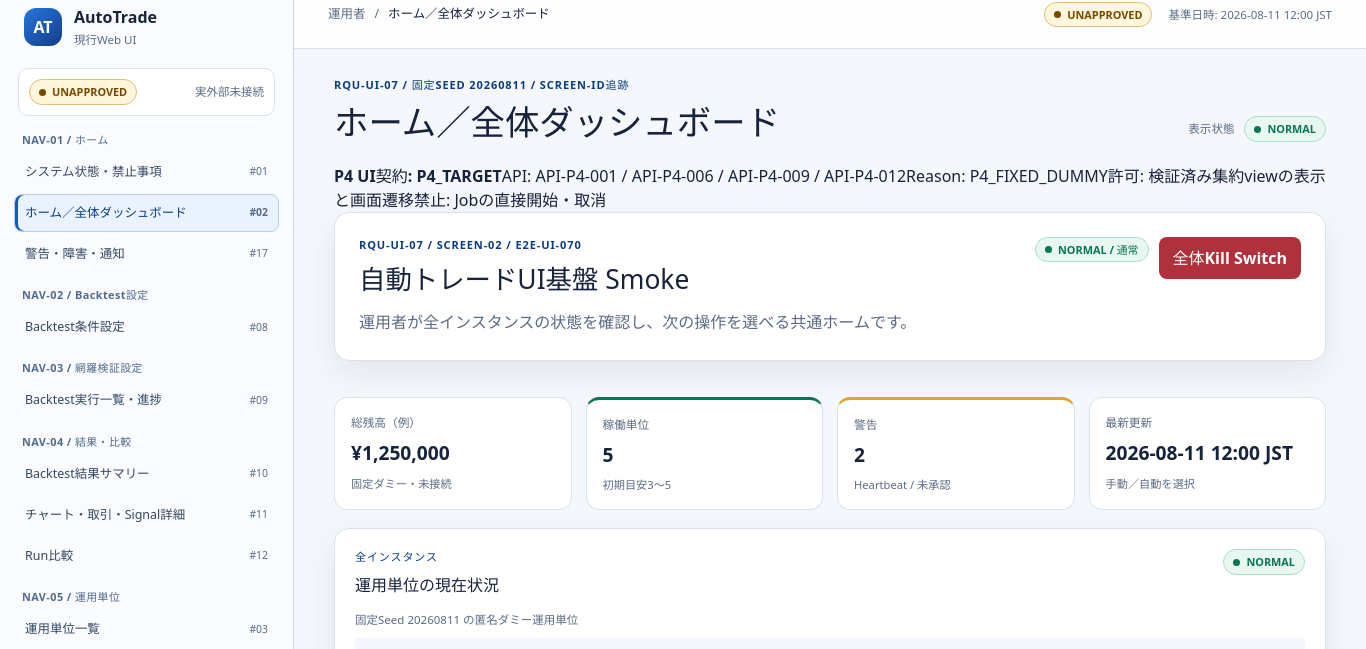
RQU-UI-08 core operation journeys › keeps the completed legacy 1m view behind the explicit legacy-history entry
The width and height of the screenshot is (1366, 649).
Click the button with test id "nav-SCREEN-08". click: (75, 327)
box: x1=14 y1=308 x2=279 y2=346
(page scrolled)
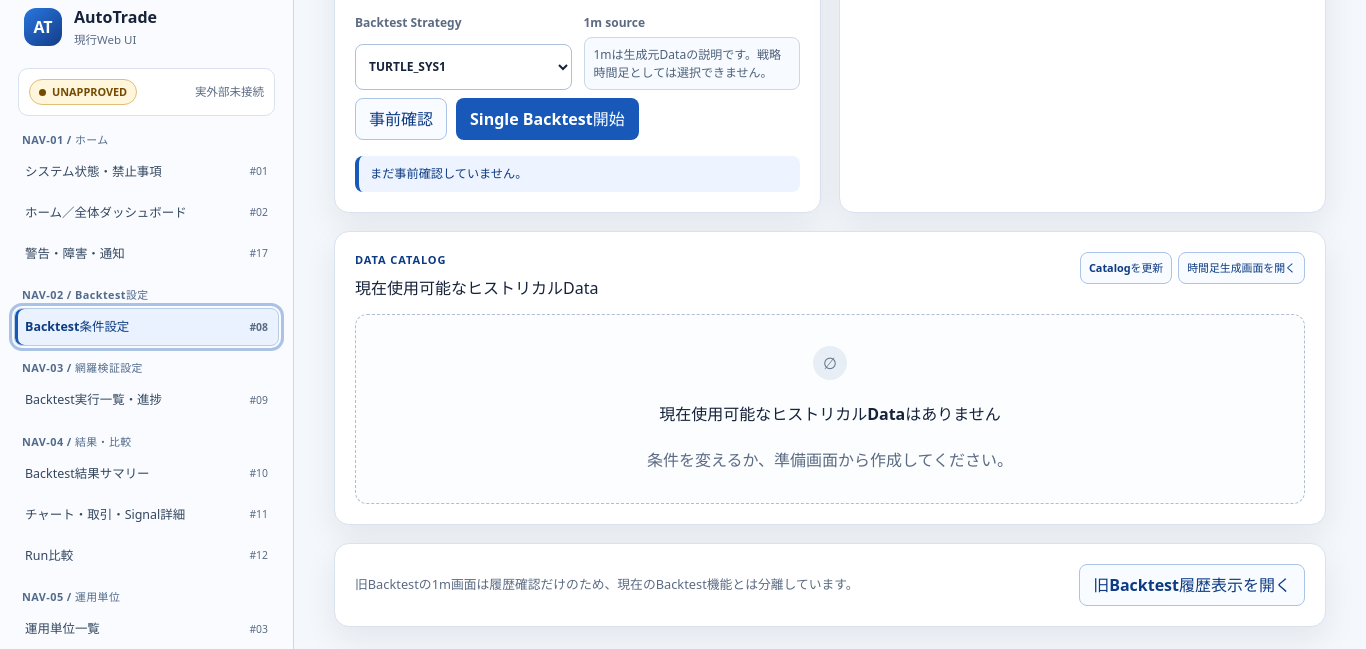
Click the button "旧Backtest履歴表示を開く". click: (1192, 585)
box: x1=1079 y1=564 x2=1305 y2=606
(page scrolled)
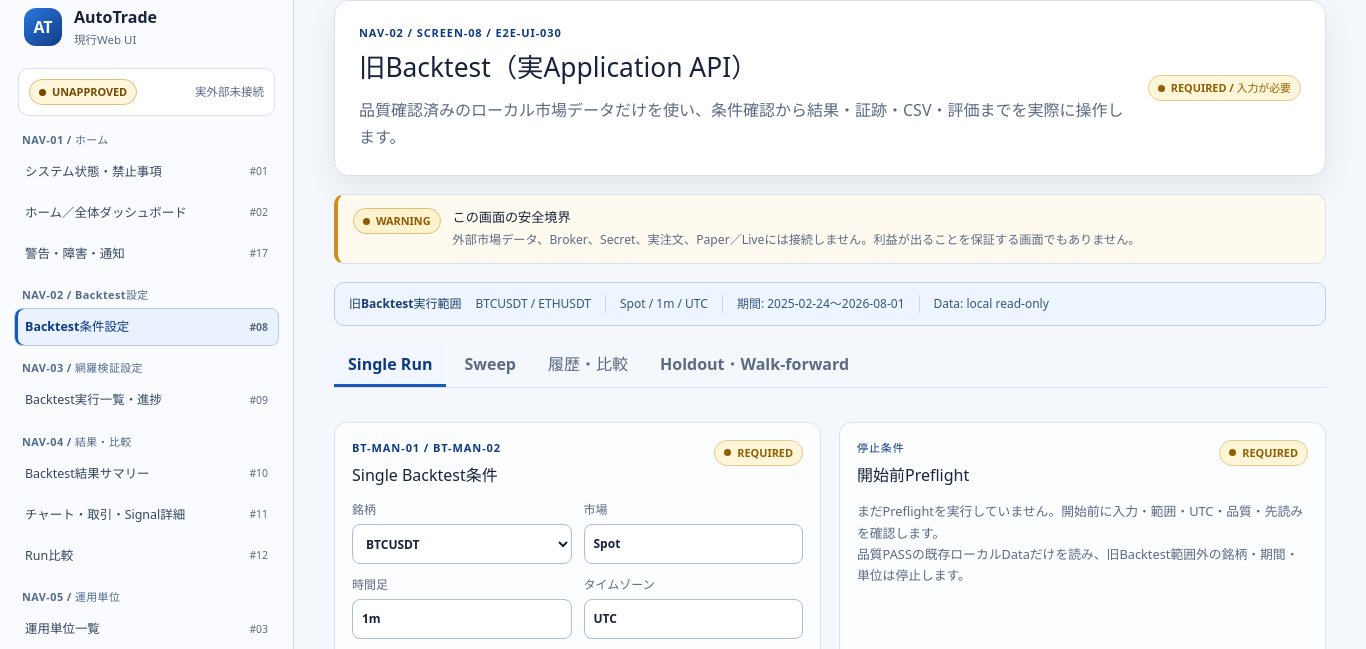
Expected: the tab "Single Run" is shown, x1=334 y1=344 x2=446 y2=387
